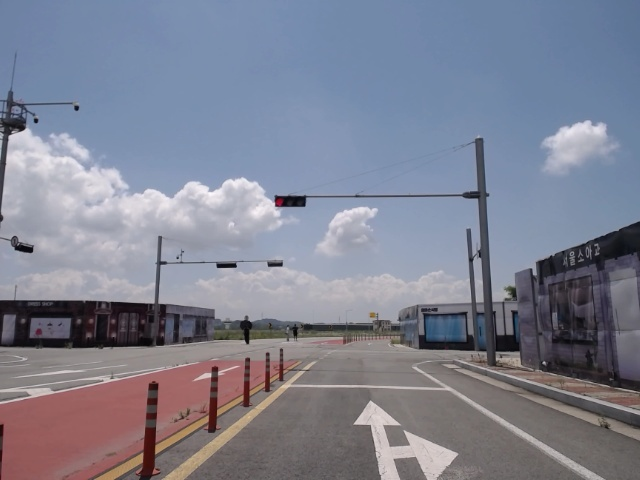red_3: (273, 195, 307, 209)
